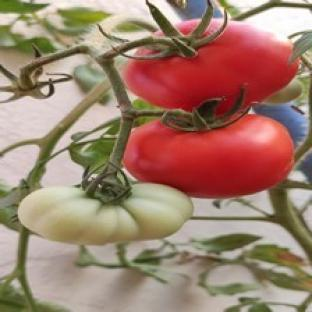Tomato: (123, 21, 298, 112), (123, 115, 293, 197), (19, 183, 193, 245), (264, 78, 302, 105)
